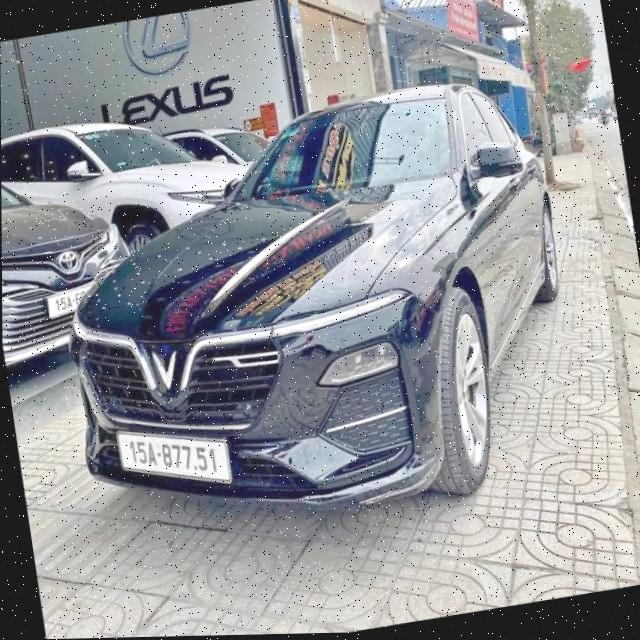car: (18, 57, 608, 560)
plate: (114, 415, 237, 499), (36, 279, 101, 323)
